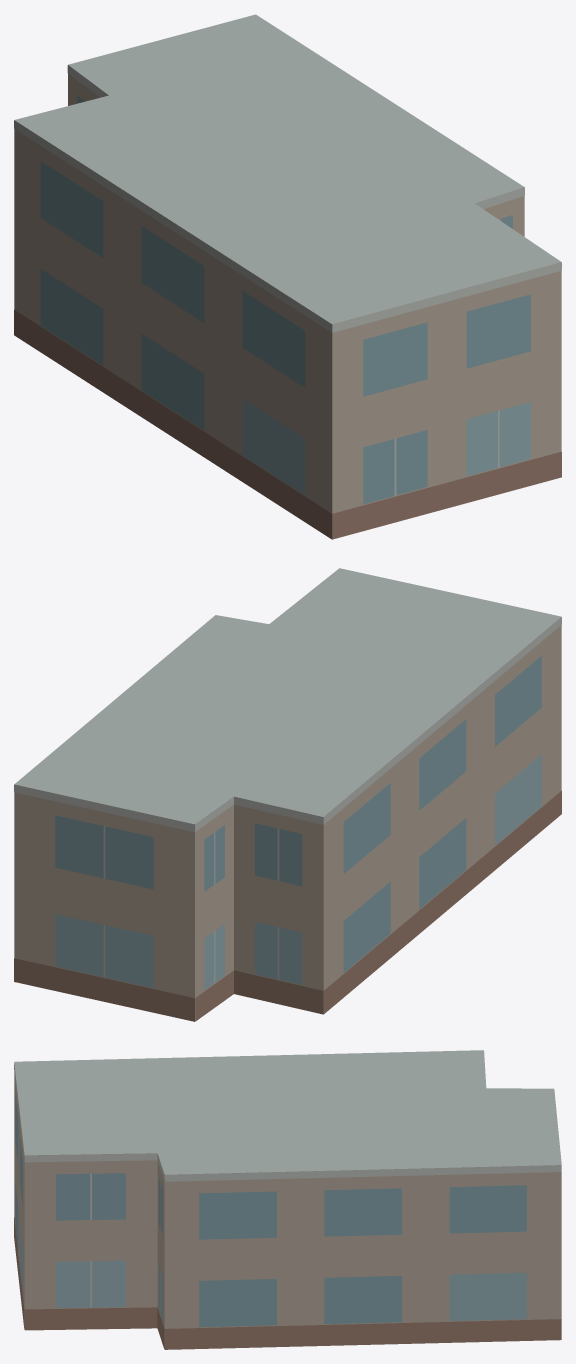
The model's file is survey-upis-32687159.glb.
3 views of the same model, one above another, from view 1: azimuth 30°, elevation 25°; view 2: azimuth 150°, elevation 25°; view 3: azimuth 270°, elevation 25° (orthographic). The views are drawn at different scales.
Visible parts, largest first — view 1: survey-upis-32687159.tmp; view 2: survey-upis-32687159.tmp; view 3: survey-upis-32687159.tmp.
Boxes of the visible parts, left/top/right/bottom form: survey-upis-32687159.tmp: left=14, top=14, right=561, bottom=539; survey-upis-32687159.tmp: left=14, top=568, right=561, bottom=1021; survey-upis-32687159.tmp: left=14, top=1050, right=561, bottom=1349.
Bounding box in the file's own units: 9.33 × 6.1 × 17.31.
